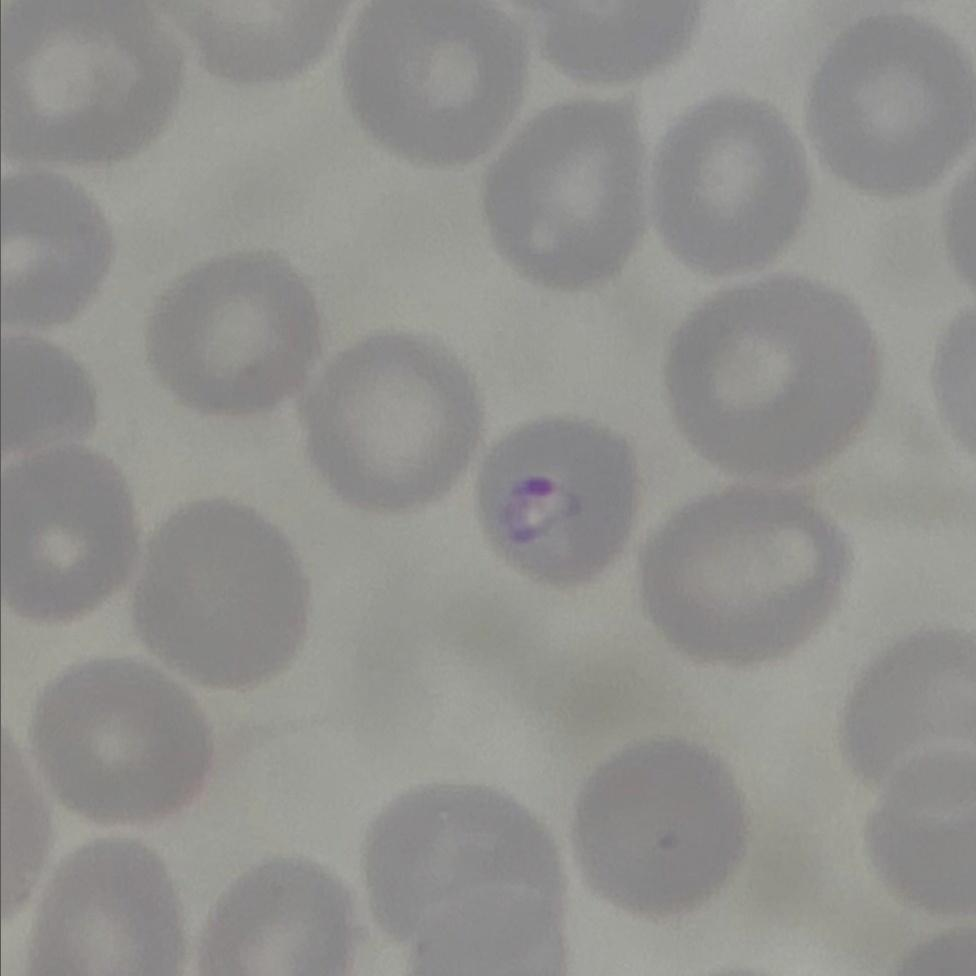Infected: (470, 421, 639, 586)
Uninfected: (667, 281, 884, 481), (635, 491, 843, 673), (298, 336, 488, 516), (585, 736, 756, 928), (375, 796, 561, 970), (337, 1, 524, 173), (480, 96, 643, 288), (0, 0, 186, 166), (145, 501, 304, 695), (142, 256, 319, 423), (808, 11, 971, 191), (650, 88, 809, 271), (43, 661, 211, 828), (855, 733, 976, 947), (3, 446, 141, 628), (840, 636, 976, 816), (32, 838, 189, 976), (0, 156, 112, 338), (198, 856, 358, 976)
